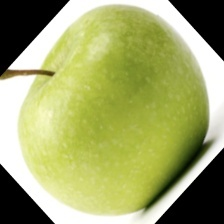apple: (44, 52, 199, 207)
